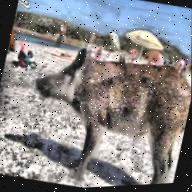boar: (16, 28, 192, 191)
